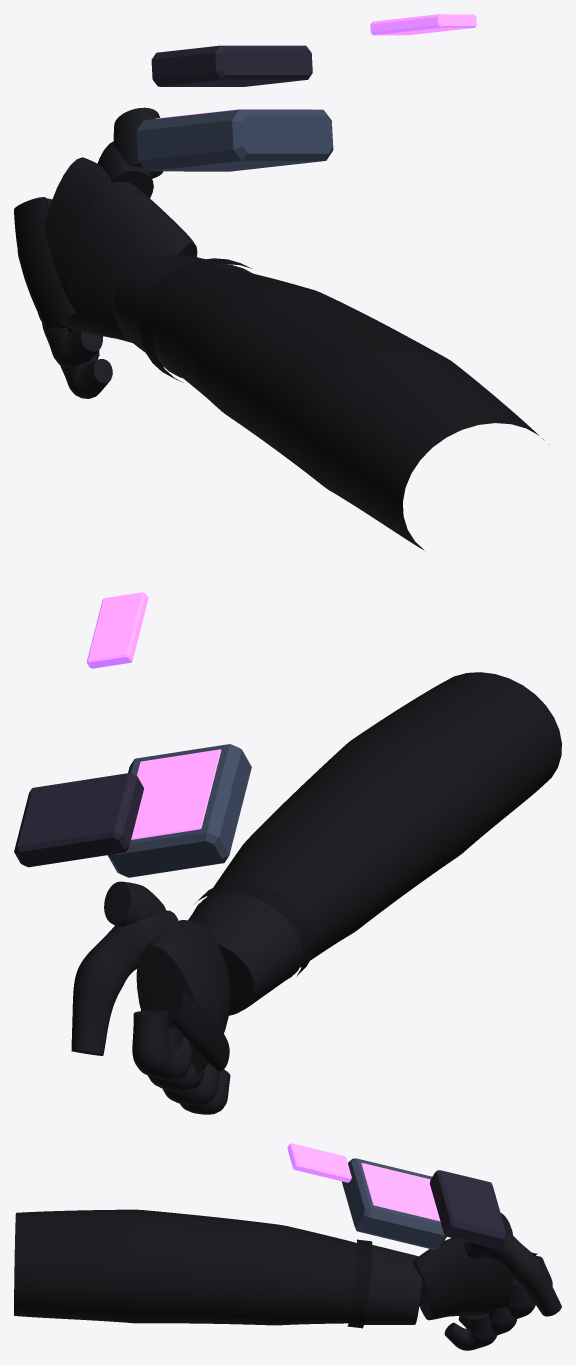
Rendered from hands_specter_charge.glb.
The picture shows the model from 3 angles, top to bottom: view 1: azimuth 30°, elevation 25°; view 2: azimuth 150°, elevation 25°; view 3: azimuth 270°, elevation 25°; orthographic projection. The views are drawn at different scales.
Parts seen in each view (by area): view 1: hand_l_forearm, hand_l_palm, hand_l_scanner, hand_l_cuff_plate, hand_l_knuckle_panel, hand_l_cuff, hand_l_cuff_strap, hand_l_lamp, hand_l_ring, hand_l_little, hand_l_web, hand_l_thumb; view 2: hand_l_forearm, hand_l_cuff_plate, hand_l_cuff, hand_l_scanner, hand_l_palm, hand_l_thumb, hand_l_screen, hand_l_lamp, hand_l_index, hand_l_knuckle_panel, hand_l_web, hand_l_cuff_strap (+3 smaller); view 3: hand_l_forearm, hand_l_palm, hand_l_cuff_plate, hand_l_scanner, hand_l_cuff, hand_l_screen, hand_l_thumb, hand_l_lamp, hand_l_cuff_strap, hand_l_little, hand_l_ring, hand_l_middle.
Boxes of the visible parts, bbox=[...] form: hand_l_forearm: bbox=[152, 267, 548, 550]; hand_l_palm: bbox=[44, 157, 197, 342]; hand_l_scanner: bbox=[136, 109, 333, 171]; hand_l_cuff_plate: bbox=[151, 45, 312, 86]; hand_l_knuckle_panel: bbox=[14, 197, 76, 330]; hand_l_cuff: bbox=[113, 255, 252, 378]; hand_l_cuff_strap: bbox=[140, 258, 251, 382]; hand_l_lamp: bbox=[370, 14, 476, 35]; hand_l_ring: bbox=[42, 322, 102, 367]; hand_l_little: bbox=[60, 327, 112, 398]; hand_l_web: bbox=[113, 107, 163, 178]; hand_l_thumb: bbox=[97, 141, 153, 197]; hand_l_forearm: bbox=[206, 672, 561, 967]; hand_l_cuff_plate: bbox=[14, 773, 143, 867]; hand_l_cuff: bbox=[188, 892, 302, 1015]; hand_l_scanner: bbox=[107, 744, 251, 877]; hand_l_palm: bbox=[136, 920, 230, 1075]; hand_l_thumb: bbox=[71, 910, 180, 1055]; hand_l_screen: bbox=[131, 749, 221, 839]; hand_l_lamp: bbox=[86, 592, 148, 668]; hand_l_index: bbox=[132, 1010, 191, 1079]; hand_l_knuckle_panel: bbox=[170, 988, 229, 1071]; hand_l_web: bbox=[104, 881, 165, 926]; hand_l_cuff_strap: bbox=[194, 882, 313, 976]; hand_l_forearm: bbox=[14, 1209, 357, 1325]; hand_l_palm: bbox=[412, 1228, 513, 1320]; hand_l_cuff_plate: bbox=[430, 1170, 506, 1248]; hand_l_scanner: bbox=[341, 1158, 446, 1249]; hand_l_cuff: bbox=[364, 1245, 422, 1324]; hand_l_screen: bbox=[361, 1163, 440, 1221]; hand_l_thumb: bbox=[463, 1234, 561, 1316]; hand_l_lamp: bbox=[287, 1143, 351, 1182]; hand_l_cuff_strap: bbox=[347, 1239, 372, 1328]; hand_l_little: bbox=[444, 1313, 497, 1350]; hand_l_ring: bbox=[458, 1307, 516, 1335]; hand_l_middle: bbox=[508, 1278, 535, 1318].
Size of the model in its own units: 0.1383 by 0.1893 by 0.3439.
